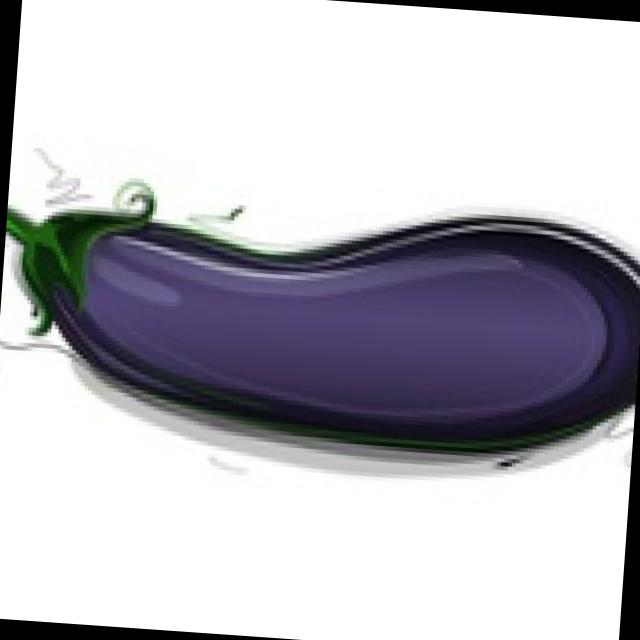eggplant: (14, 179, 640, 471)
